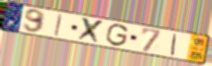7: (140, 26, 163, 53)
9: (22, 8, 48, 34)
G: (105, 23, 130, 48)
I: (53, 13, 65, 38), (169, 32, 178, 57)
X: (75, 16, 105, 46)
